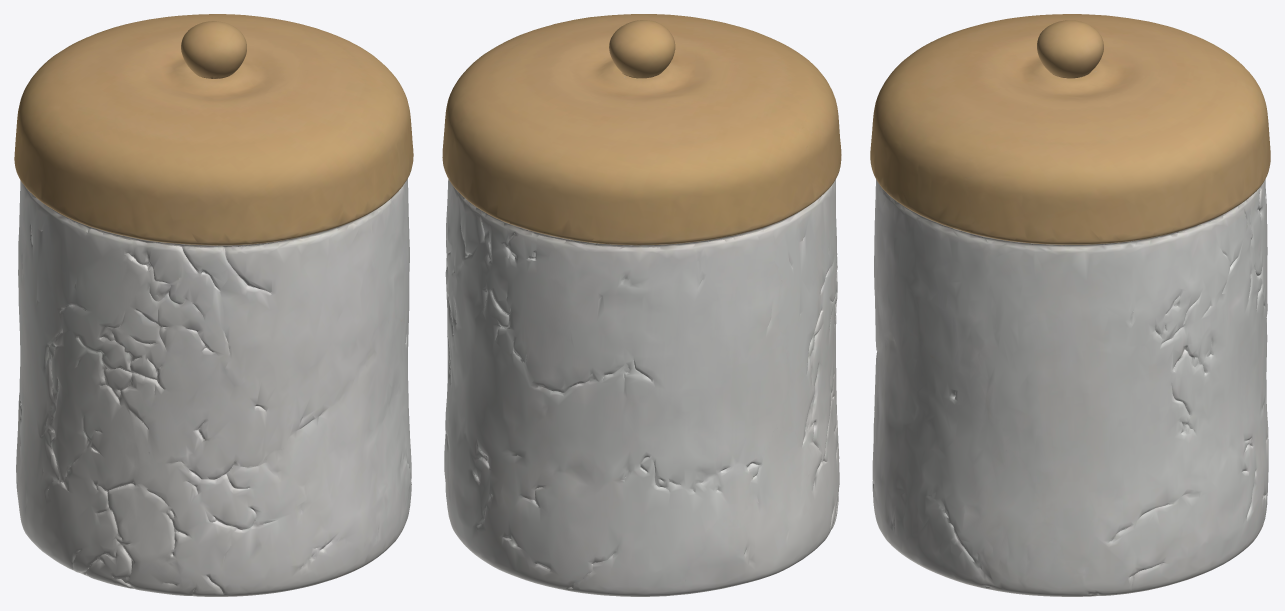
The model's file is candle-marble.glb.
3 renders of one model, left to right at view 1: azimuth 30°, elevation 25°; view 2: azimuth 150°, elevation 25°; view 3: azimuth 270°, elevation 25°, orthographic.
Parts seen in each view (by area): view 1: model; view 2: model; view 3: model.
Boxes of the visible parts, bbox=[...] form: model: bbox=[14, 14, 413, 596]; model: bbox=[442, 14, 841, 596]; model: bbox=[870, 14, 1270, 596].
Size of the model in its own units: 1.37 by 1.89 by 1.38.
Materials: 1 (1 with a texture image).
